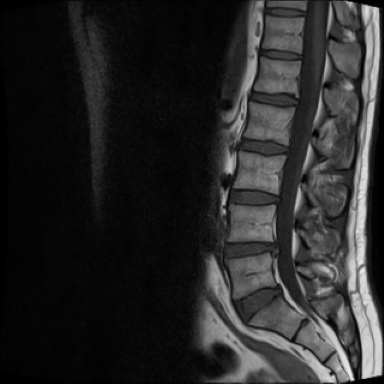Lumbar Disc Bulge (LDB): (228, 282, 288, 329), (217, 237, 284, 267)
Normal IVD: (234, 134, 293, 159), (221, 187, 284, 208), (245, 88, 302, 111), (255, 45, 307, 64), (259, 5, 311, 20)
Spinal Stenosis (SS): (266, 235, 286, 258), (270, 280, 285, 303)
